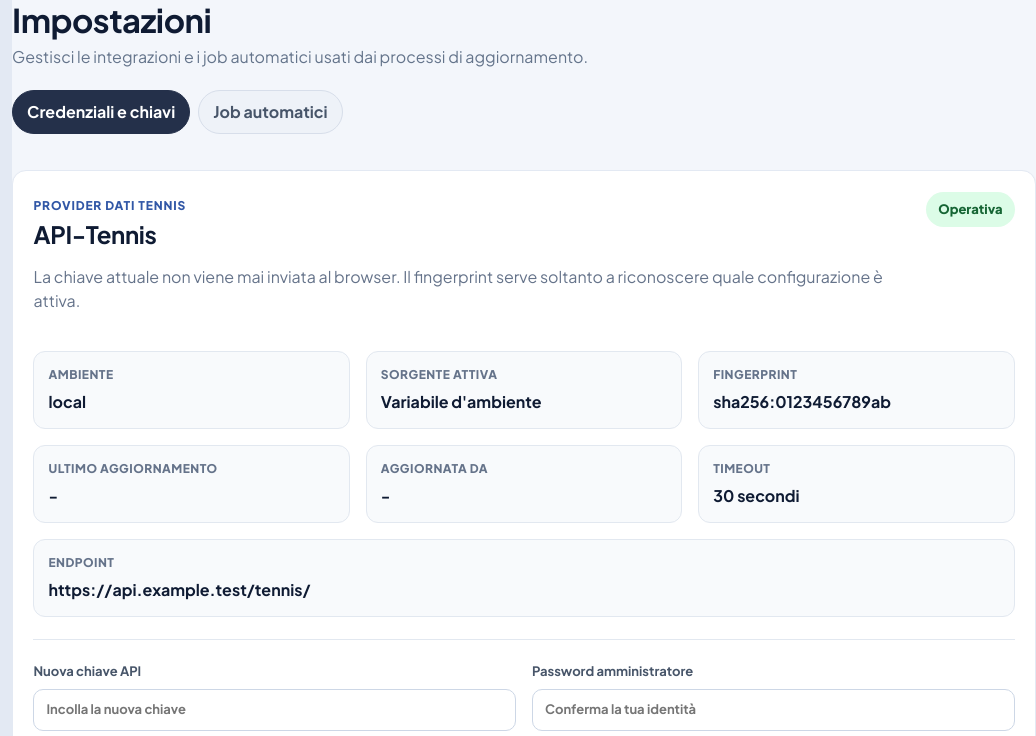
it: SettingsPage › tests a candidate key without saving it
The width and height of the screenshot is (1036, 736).
Type "candidate-key" into the password field labelled "Nuova chiave API".
click(275, 710); type("candidate-key")  # box x1=34 y1=689 x2=516 y2=731
(page scrolled)
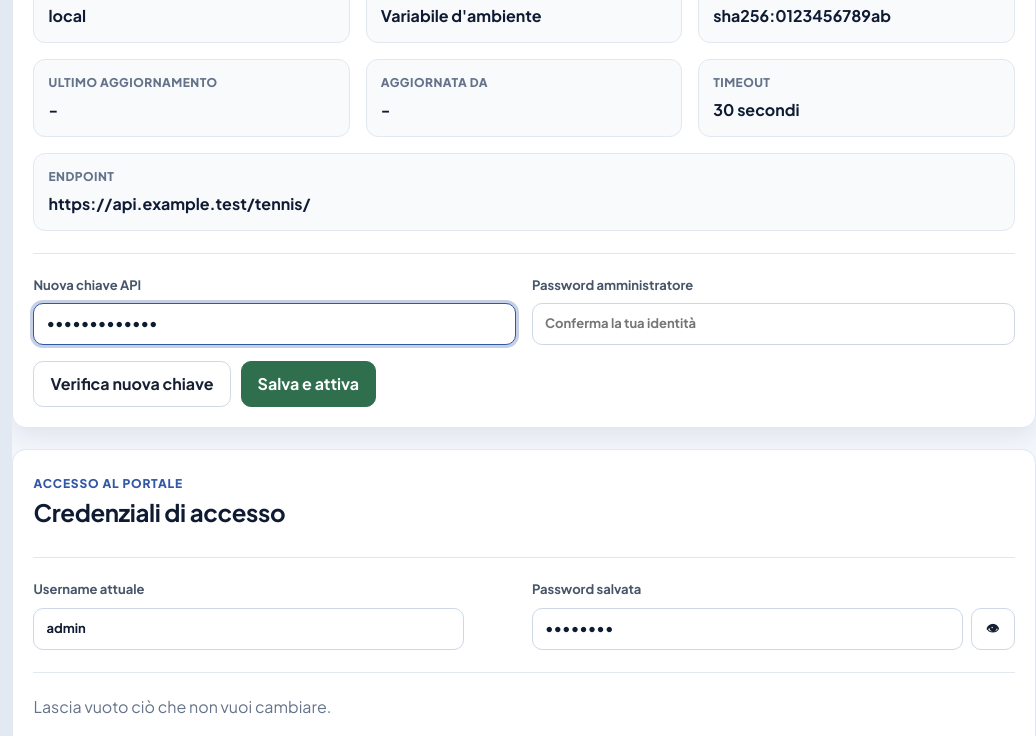
Click the button "Verifica nuova chiave".
click(132, 384)  # box x1=34 y1=361 x2=231 y2=407
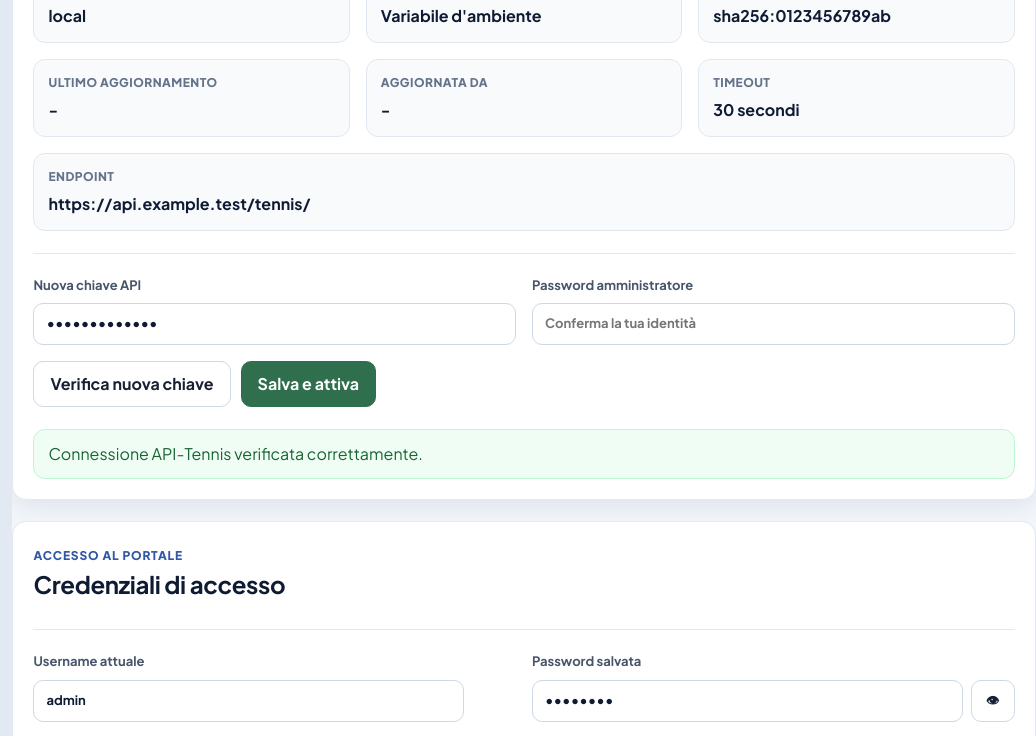
Check: the text "Connessione API-Tennis verificata correttamente." is shown, box x1=34 y1=429 x2=1015 y2=479
